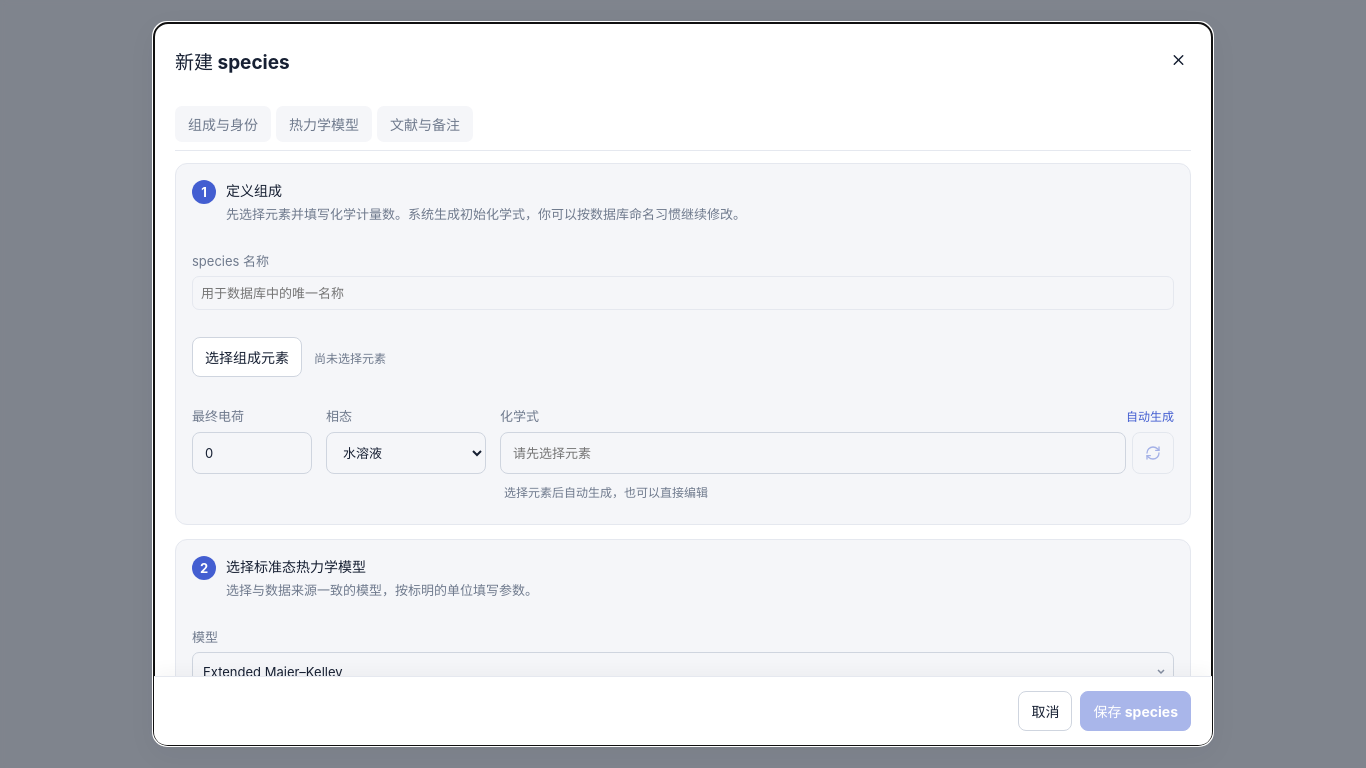
Scenario: translates an open species form without remounting or overwriting its entries
Type "测试模型说明" into the field labelled "species 名称". click: (683, 293)
box: [192,276,1174,310]
(page scrolled)
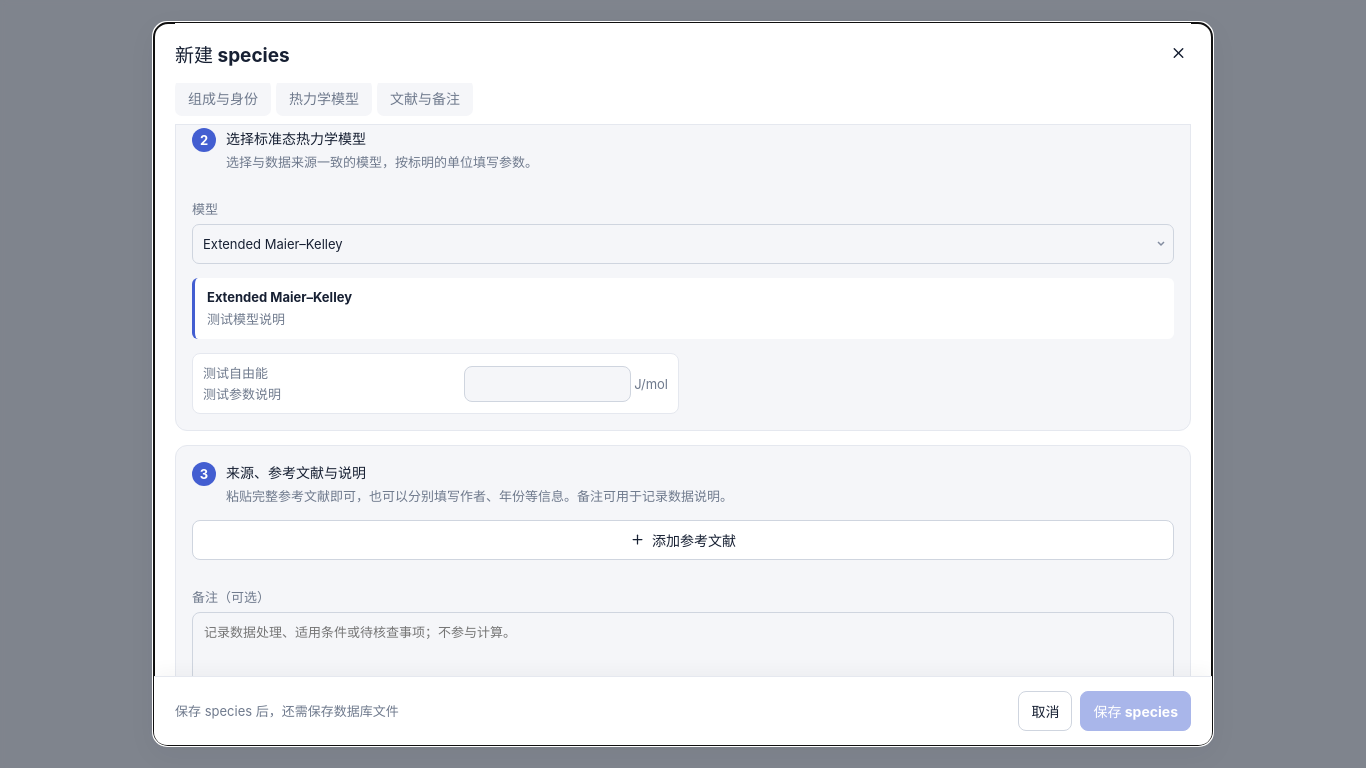
Type "-12345.678901234" into the number field labelled "测试自由能 测试参数说明 J/mol". click: (548, 384)
box: [464,366,631,402]
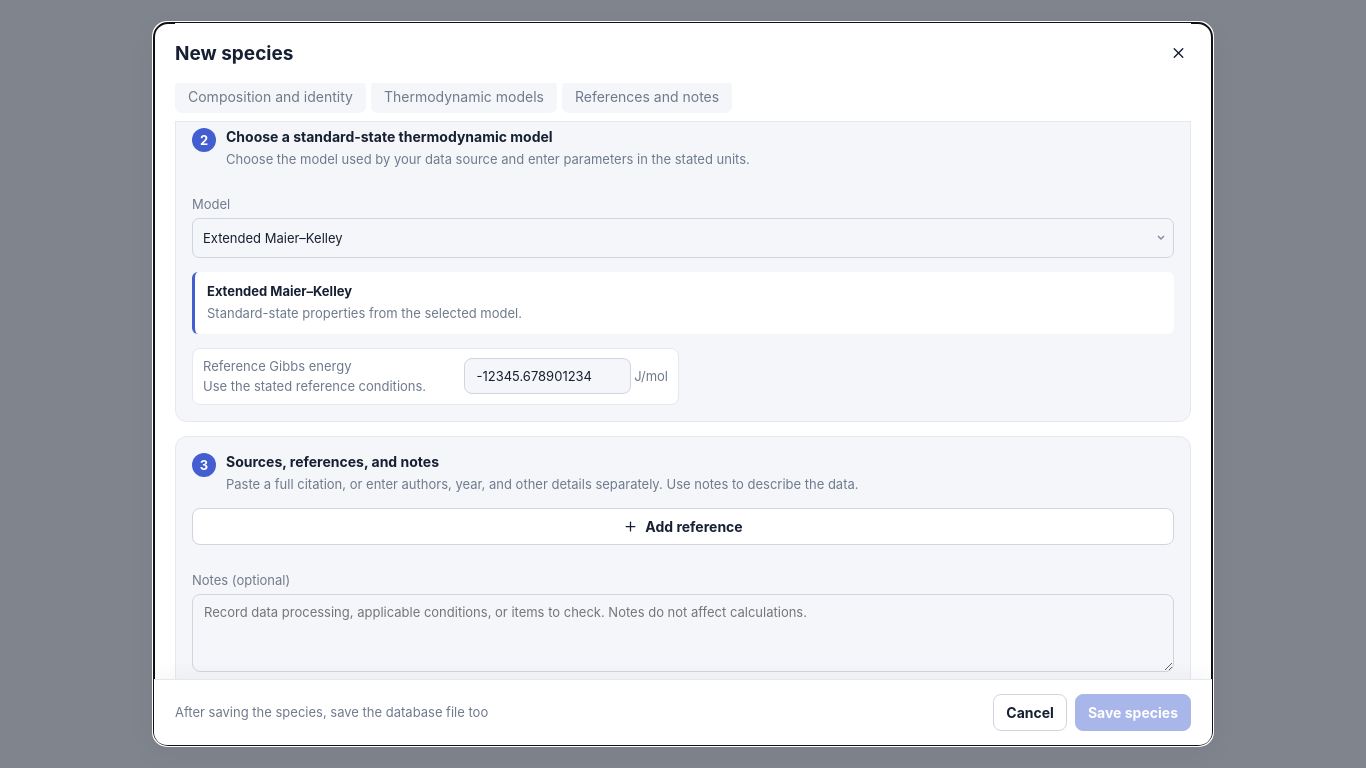
Check: the text "Standard-state properties from the selected model." is shown, box [207,305,522,321]
Check: the text "Use the stated reference conditions." is shown, box [203,377,457,395]
Click the button "Cancel". click: (1030, 712)
box: [993,694,1067,731]
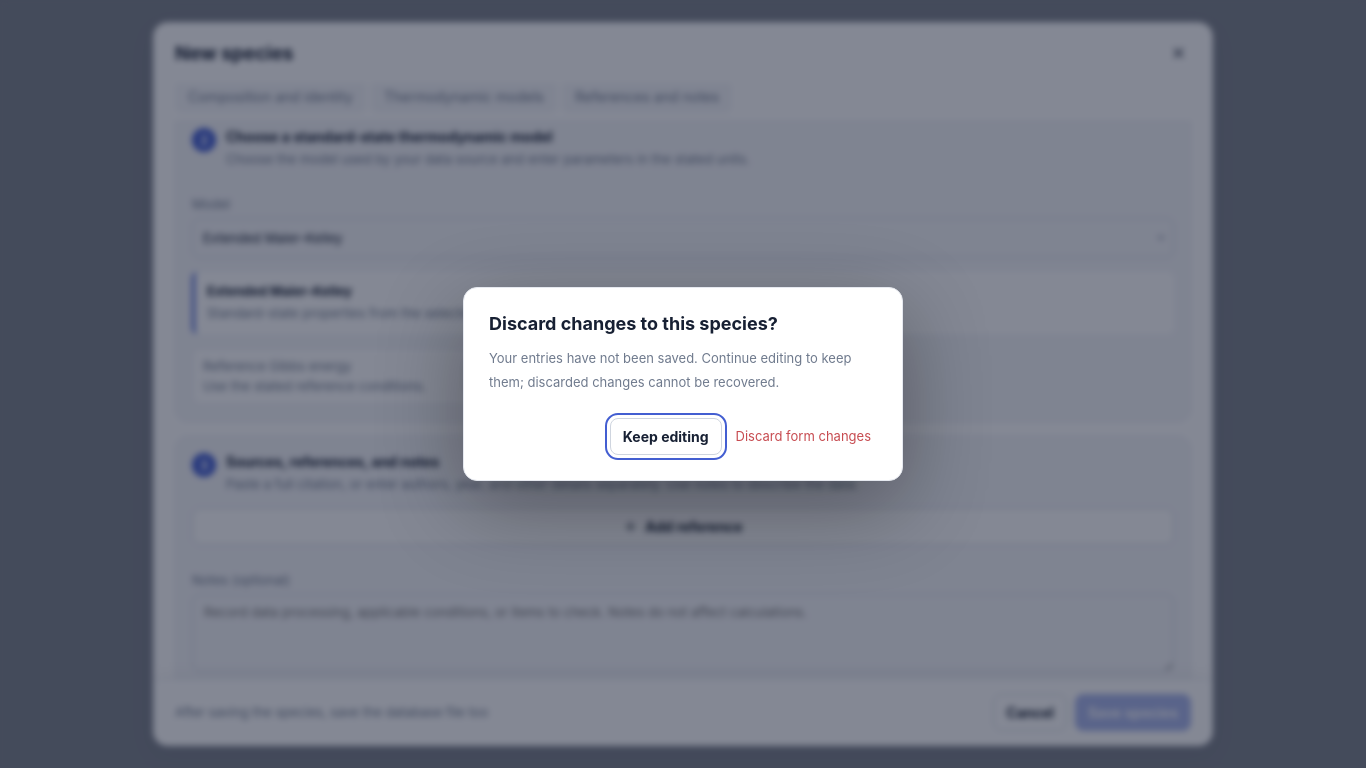
Check: the dialog shows "Discard changes to this species?", box [489,313,778,334]
